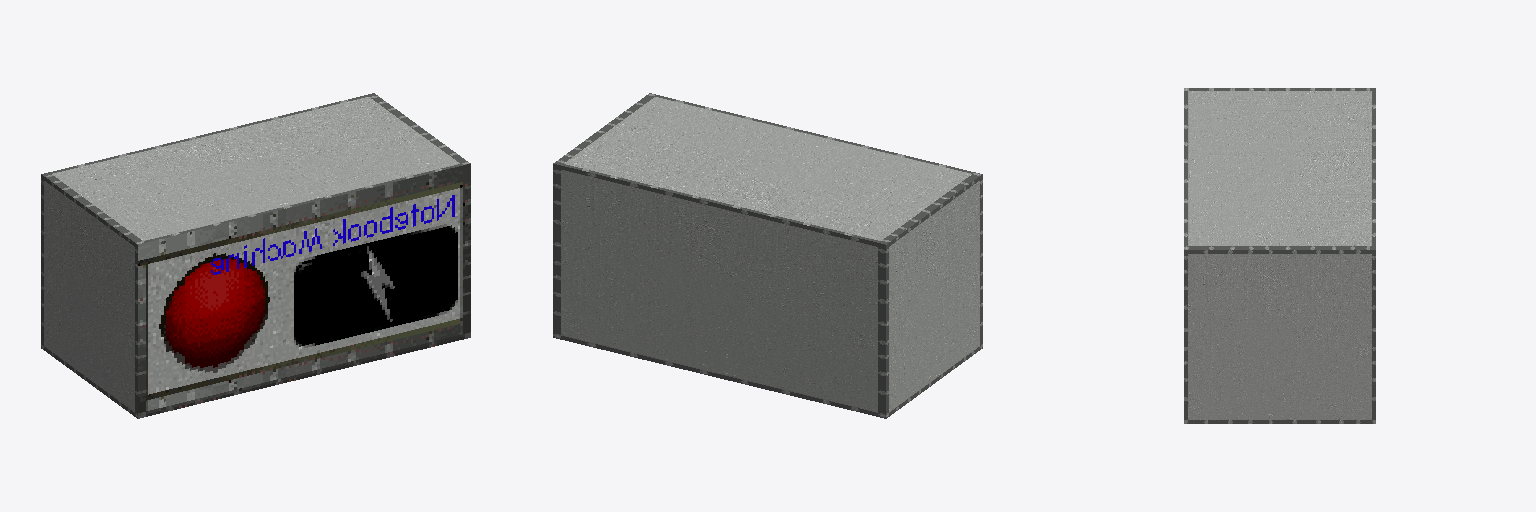
3 renders of one model, left to right at view 1: azimuth 30°, elevation 25°; view 2: azimuth 150°, elevation 25°; view 3: azimuth 270°, elevation 25°, orthographic.
Visible parts, largest first — view 1: NtbkMachine_Base; view 2: NtbkMachine_Base; view 3: NtbkMachine_Base.
Boxes of the visible parts, box(x1,y1,x2,y2) form: NtbkMachine_Base: box(41, 93, 470, 418); NtbkMachine_Base: box(553, 93, 982, 418); NtbkMachine_Base: box(1184, 88, 1375, 423).
Size of the model in its own units: 3 by 1.5 by 1.5.
2 materials, 2 textured.